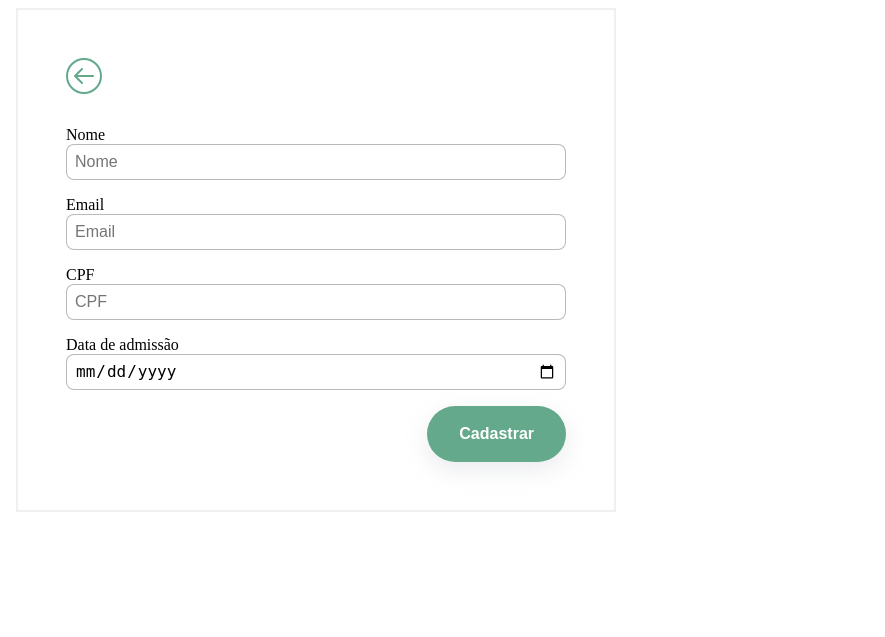
Test case: NewUserPage Integration › should submit the form and show success snackbar
Step 1. Type "Teste Usuário" into the field with test id "text-field-name" → (316, 162), box [66,144,566,180]
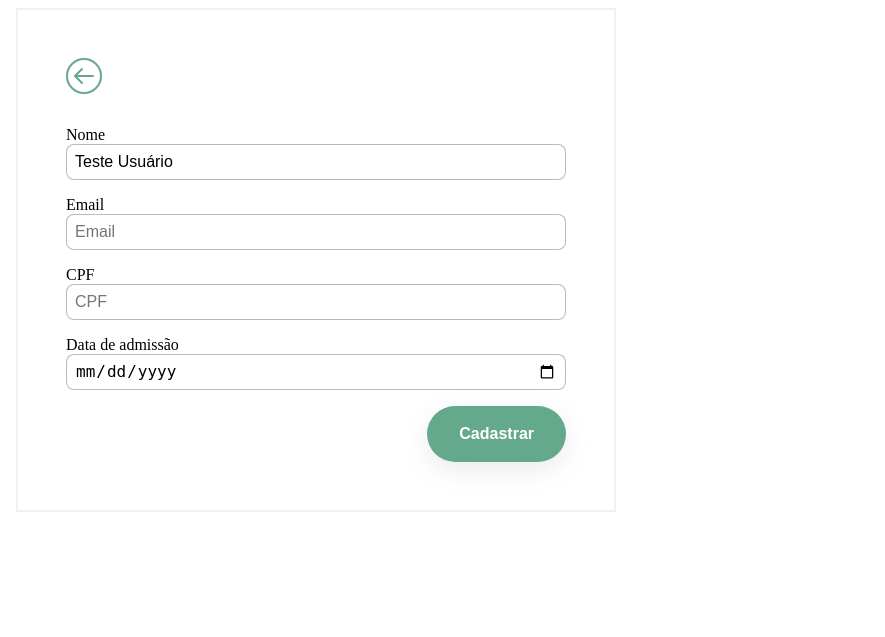
Step 2. Type "teste@usuario.com" into the field with test id "text-field-email" → (316, 232), box [66,214,566,250]
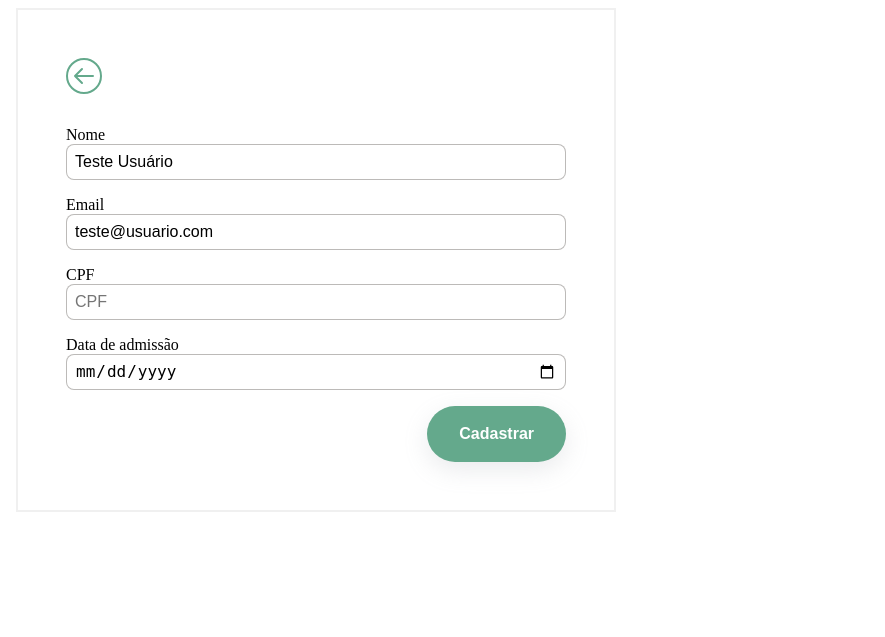
Step 3. Type "123.456.789-09" into the field with test id "text-field-cpf" → (316, 302), box [66,284,566,320]
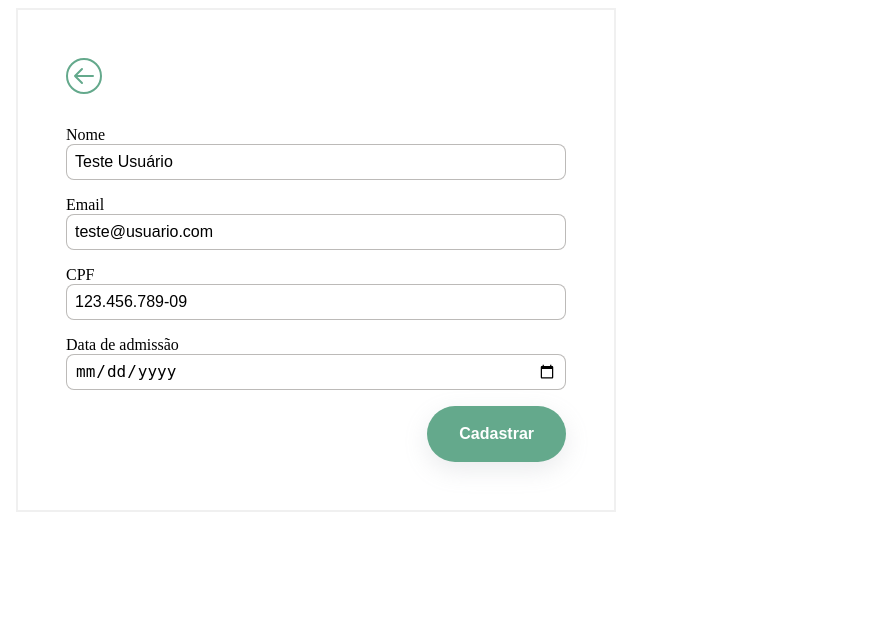
Step 4. Type "2024-01-01" into the date field with test id "text-field-admissionDate" → (316, 372), box [66,354,566,390]
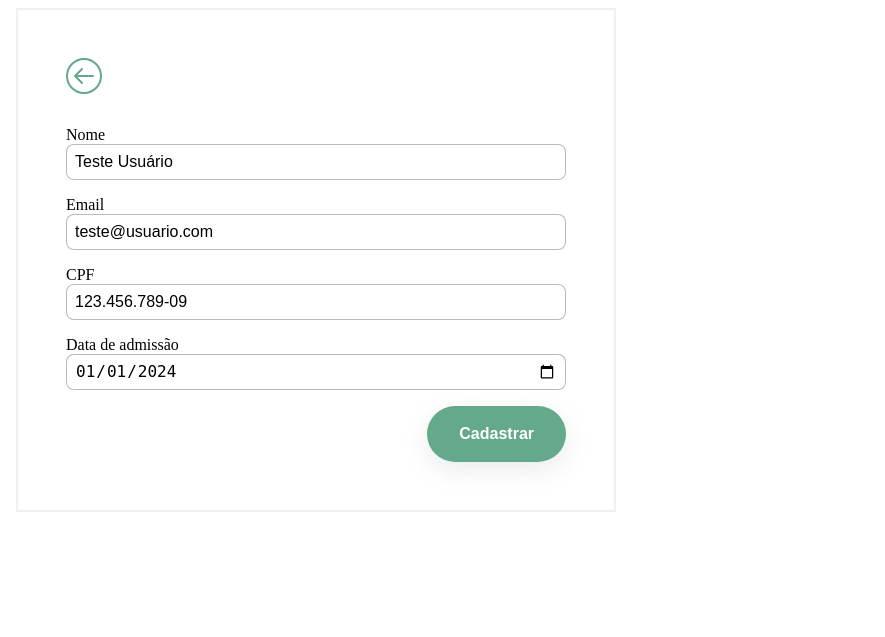
Step 5. Click the button with test id "submit-form" → (497, 434), box [427,406,566,462]
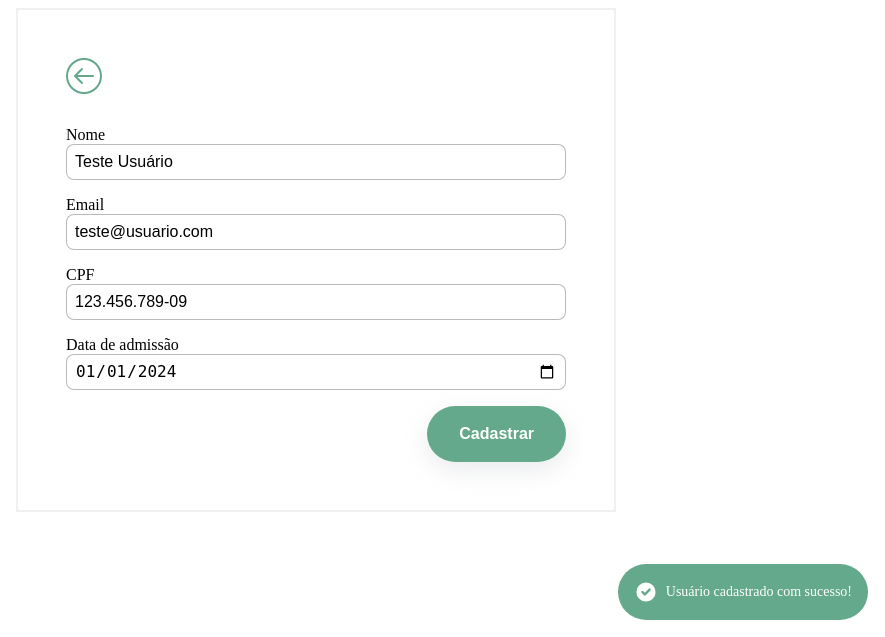
Now the text "Usuário cadastrado com sucesso!" is shown, box [618,564,868,620]
